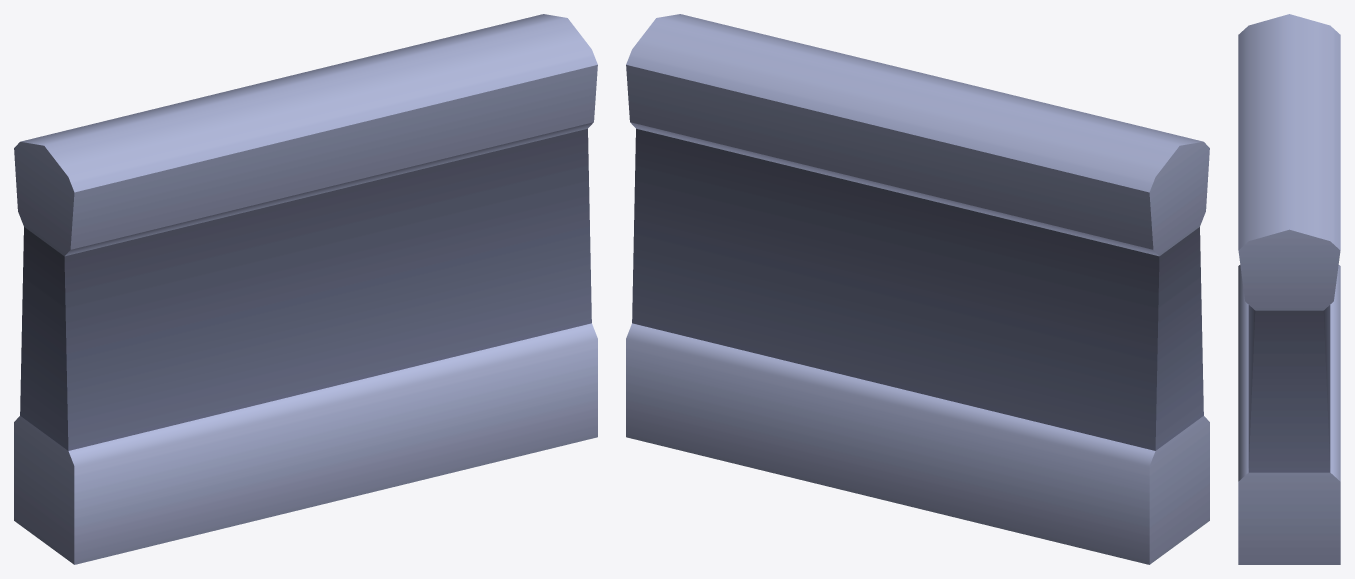
File: stone-wall.glb
The picture shows the model from 3 angles, left to right: view 1: azimuth 30°, elevation 25°; view 2: azimuth 150°, elevation 25°; view 3: azimuth 270°, elevation 25°; orthographic projection. The views are drawn at different scales.
Parts seen in each view (by area): view 1: stone-wall; view 2: stone-wall; view 3: stone-wall.
Boxes of the visible parts, x1,y1,x2,y2 form: stone-wall: (14, 14, 597, 564); stone-wall: (626, 14, 1209, 564); stone-wall: (1238, 14, 1340, 564).
Size of the model in its own units: 1 by 0.7249 by 0.2.
Materials: 1 (1 with a texture image).
